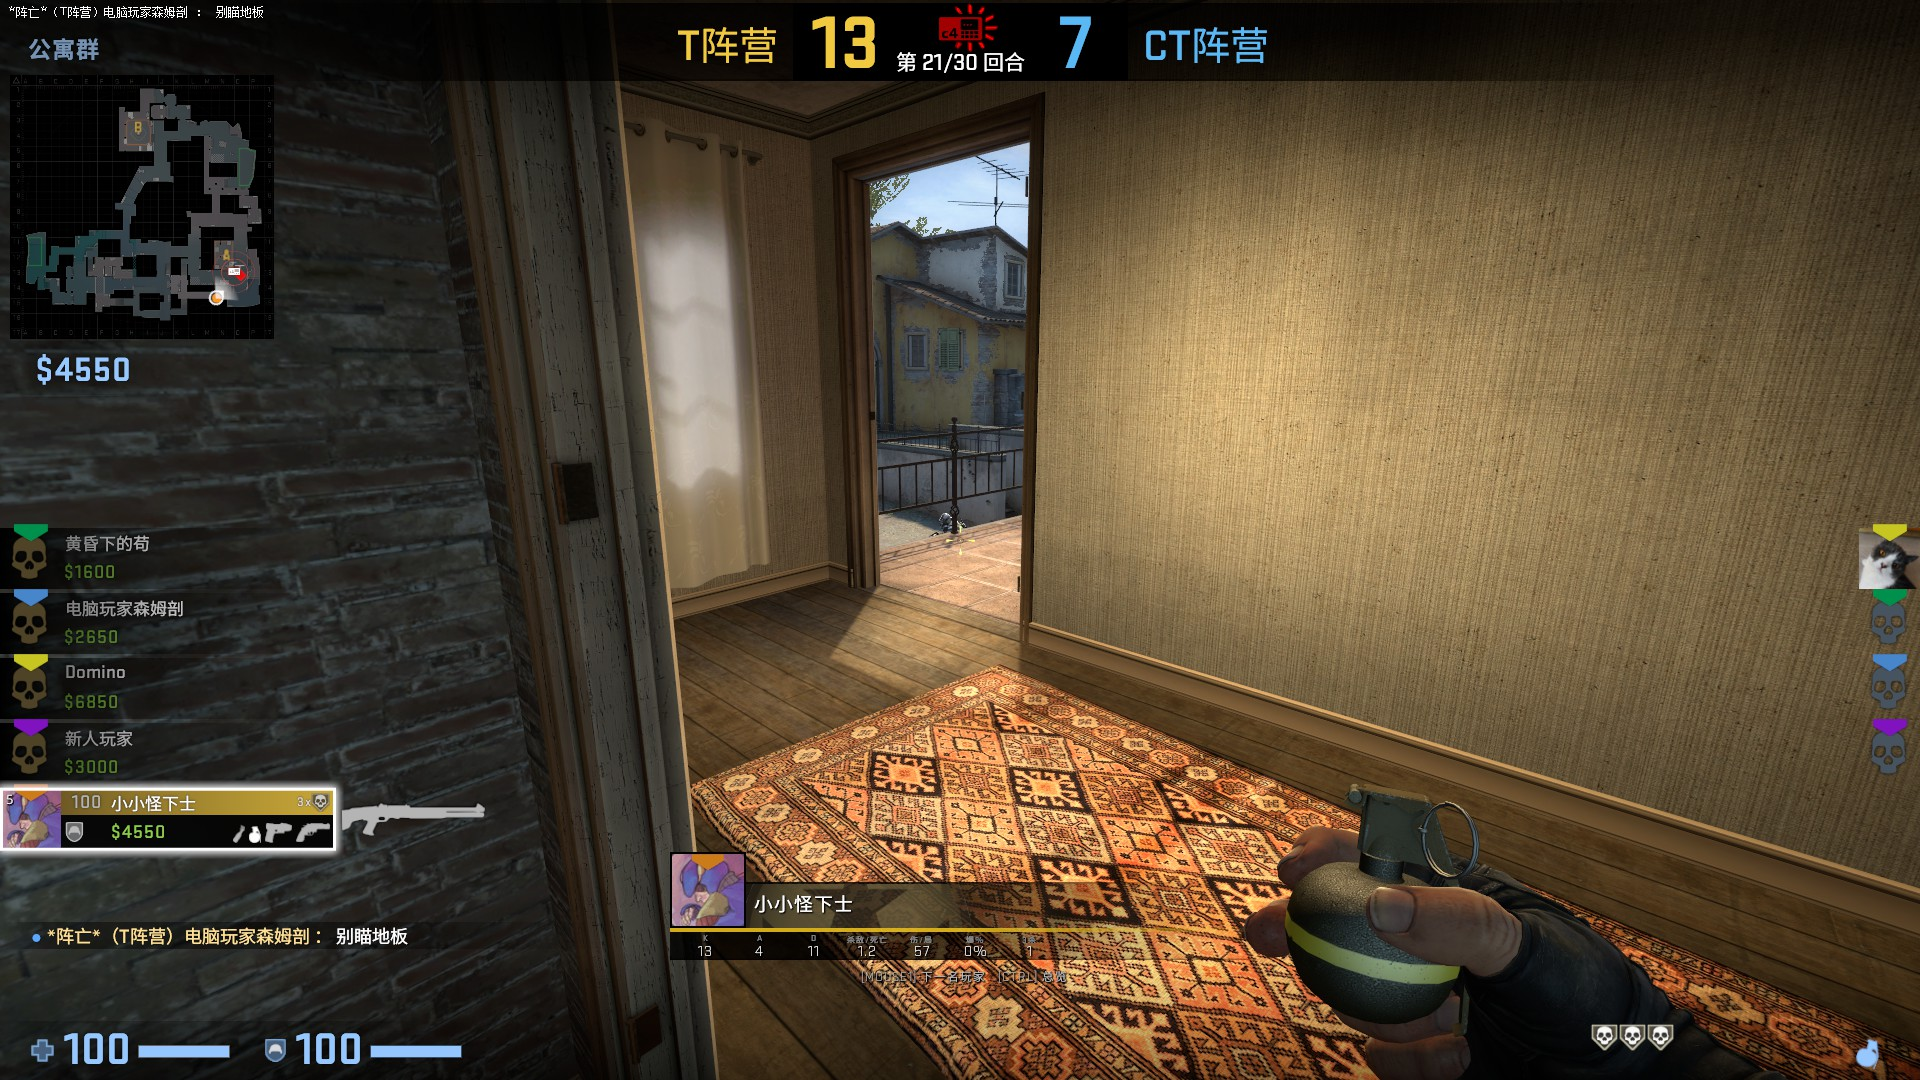head: (936, 509, 952, 528)
